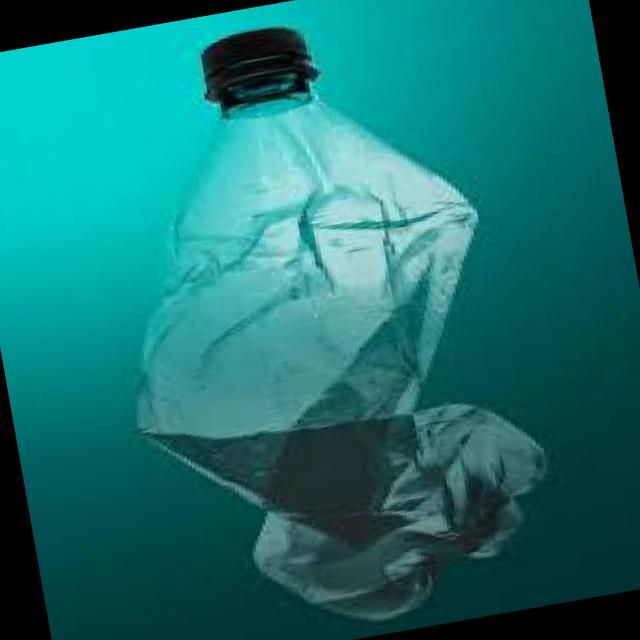defected: (62, 0, 588, 640)
